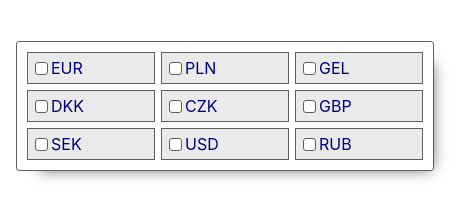
Scenario: shows second currency after clicking on checkbox
Click the checkbox named "checkbox" next to "USD".
click(176, 144)  # box top-left (169, 138), bottom-right (182, 150)
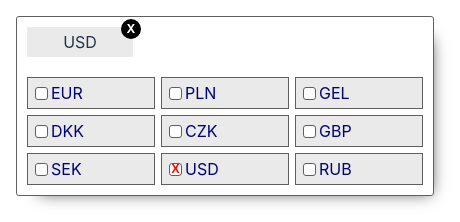
Now the 8th checkbox named "checkbox" is checked, box top-left (169, 162), bottom-right (182, 176)
Now the text "USD" is shown 2 times, box top-left (63, 30), bottom-right (97, 54); top-left (185, 157), bottom-right (219, 181)
